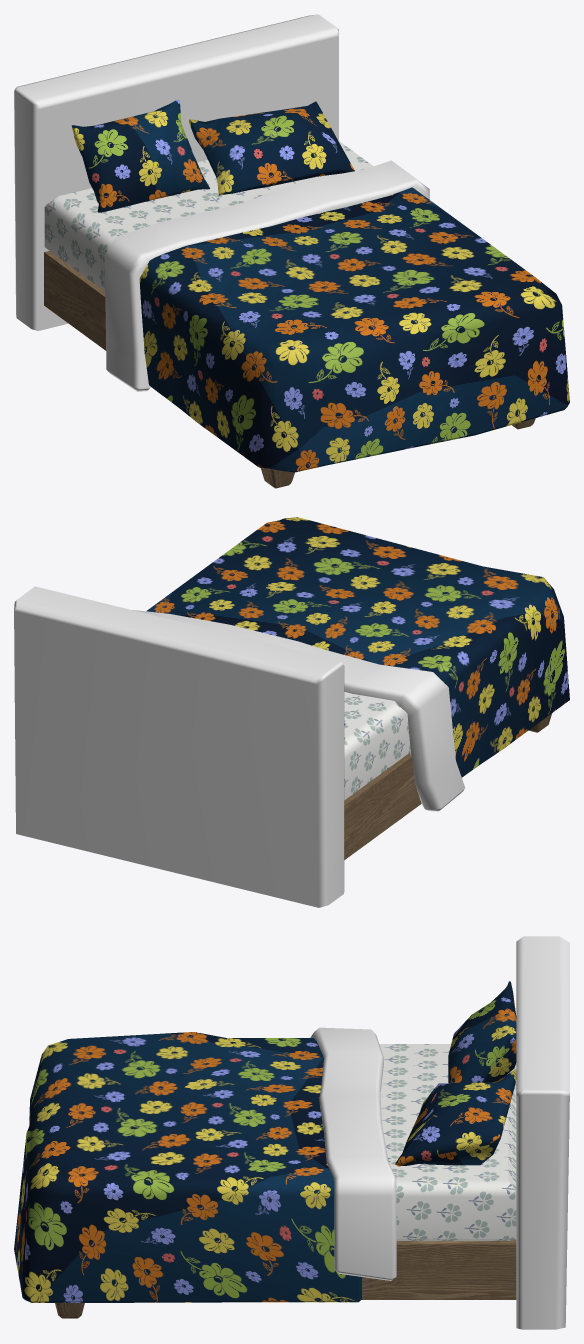
File: bed_015.fbx
The picture shows the model from 3 angles, top to bottom: view 1: azimuth 30°, elevation 25°; view 2: azimuth 150°, elevation 25°; view 3: azimuth 270°, elevation 25°; orthographic projection. The views are drawn at different scales.
Parts seen in each view (by area): view 1: bed_015; view 2: bed_015; view 3: bed_015.
Boxes of the visible parts, box(x1,y1,x2,y2) form: bed_015: box(14, 14, 569, 488); bed_015: box(14, 517, 569, 907); bed_015: box(14, 936, 569, 1329).
Size of the model in its own units: 191 by 273 by 131.
